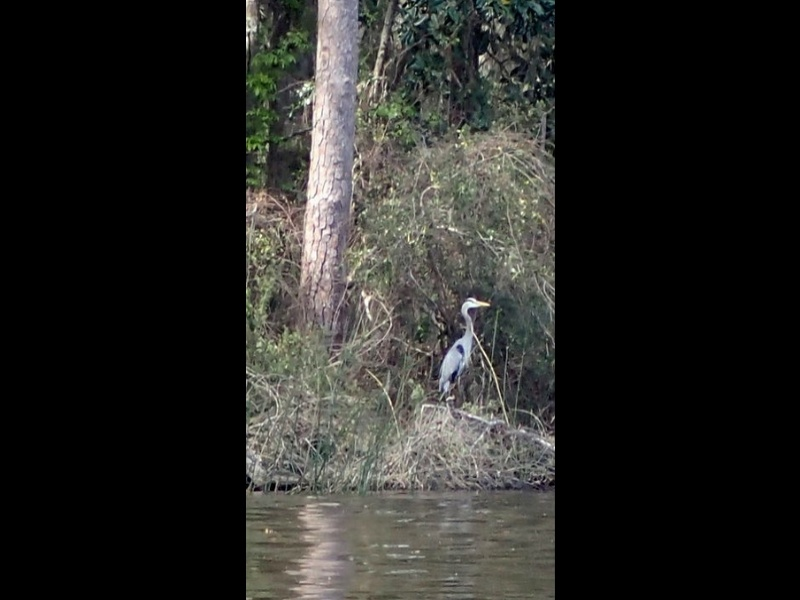heron: (438, 294, 489, 406)
